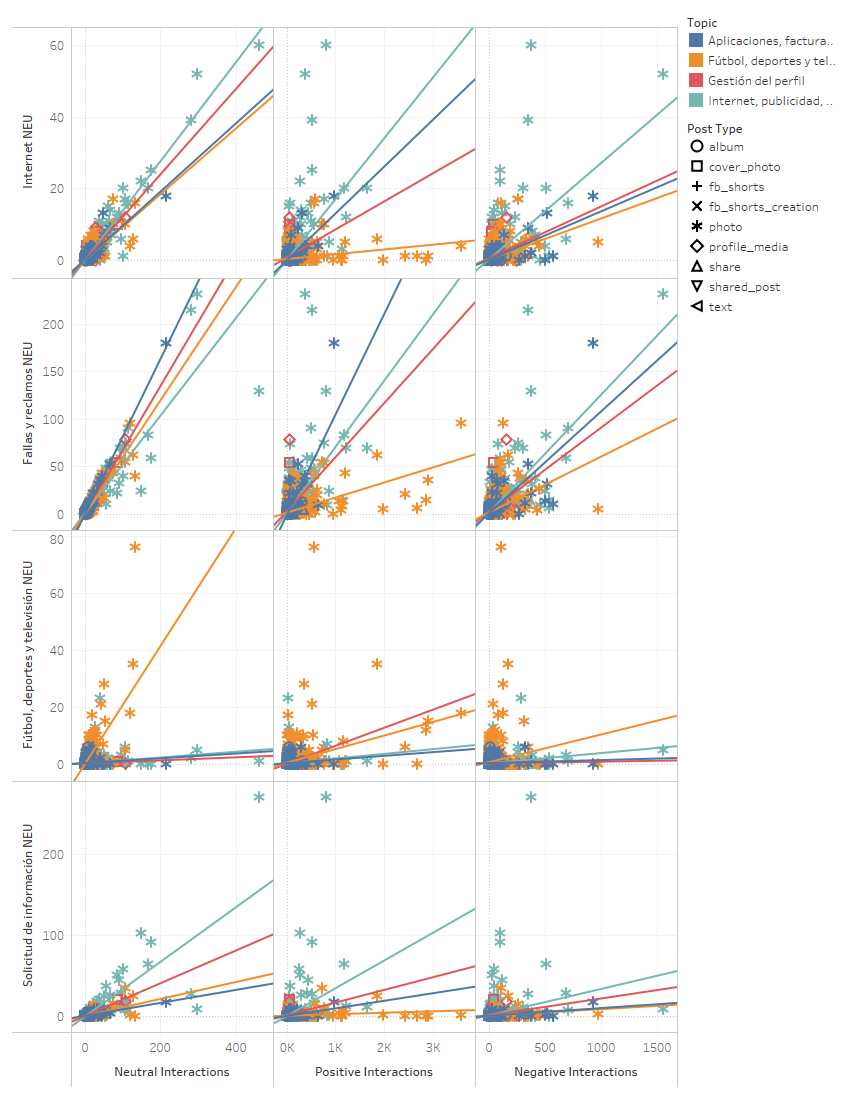

The dashboard page shown, as its layout file describes it:
{"tool":"tableau","page":{"name":"Interacciones por polaridad y tópicos Dashboard","canvas":[850,1100],"ordinal":1},"visuals":[{"type":"worksheet","title":"Interacciones neutrales y sentimientos por tópicos","mark":"Shape","rows":["Internet_NEU","Fallas y reclamos_NEU","Fútbol, deportes y televisión_NEU","Solicitud de información_NEU"],"cols":["Calculation_744219881121890312","Calculation_744219881119596550","Calculation_744219881121411079"],"box":[8,8,674,1084]},{"type":"legend","title":"Interacciones neutrales y sentimientos por tópicos","param":"[federated.1sww35l1iechlw1awsbao0zzbgp5].[none:topic:nk]","box":[682,8,160,106]},{"type":"legend","title":"Interacciones neutrales y sentimientos por tópicos","param":"[federated.1sww35l1iechlw1awsbao0zzbgp5].[none:Post Type:nk]","box":[682,114,160,206]}]}

Visuals, with their boxes in screenshot pixels (x1, y1, x2, y2), scaled from the page's 850x1100 canvas onto the 850x1100 screenshot:
"Interacciones neutrales y sentimientos por tópicos" worksheet (Shape marks): [x1=8, y1=8, x2=682, y2=1092]
"Interacciones neutrales y sentimientos por tópicos" legend: [x1=682, y1=8, x2=842, y2=114]
"Interacciones neutrales y sentimientos por tópicos" legend: [x1=682, y1=114, x2=842, y2=320]
